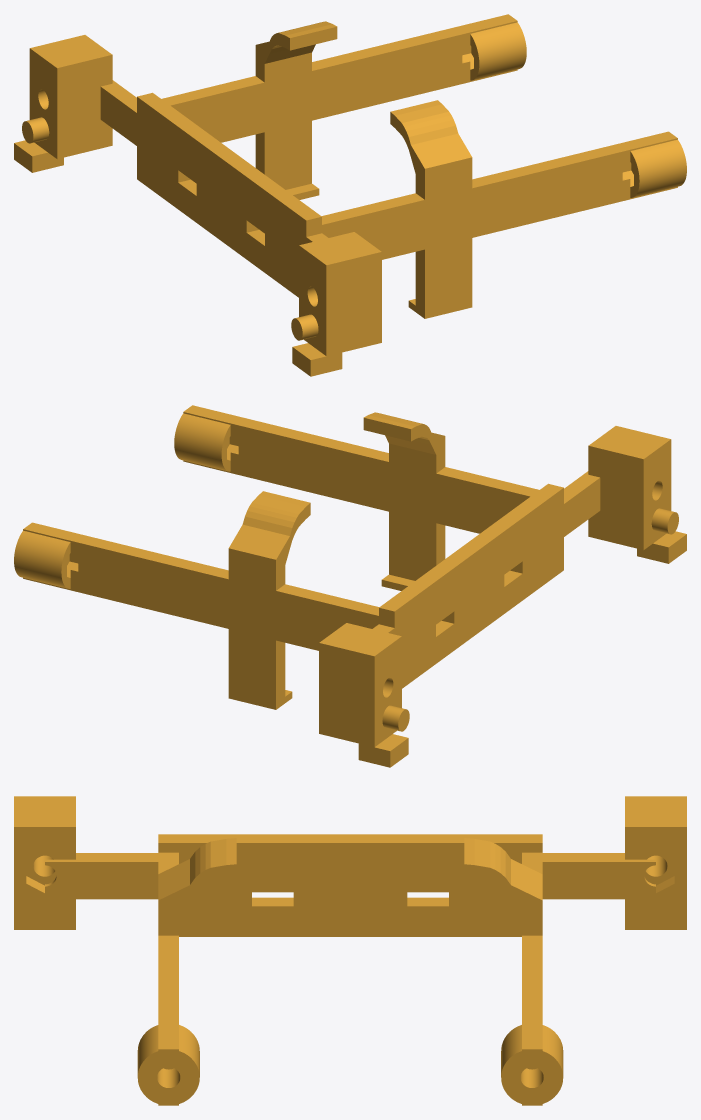
The model's file is saddle.glb.
3 views of the same model, one above another, from view 1: azimuth 30°, elevation 25°; view 2: azimuth 150°, elevation 25°; view 3: azimuth 270°, elevation 25° (orthographic). The views are drawn at different scales.
Parts seen in each view (by area): view 1: saddle; view 2: saddle; view 3: saddle.
Boxes of the visible parts, box(x1,y1,x2,y2) form: saddle: box(14, 14, 686, 376); saddle: box(14, 405, 686, 767); saddle: box(14, 796, 686, 1105).
Size of the model in its own units: 0.109 by 0.044 by 0.13.
